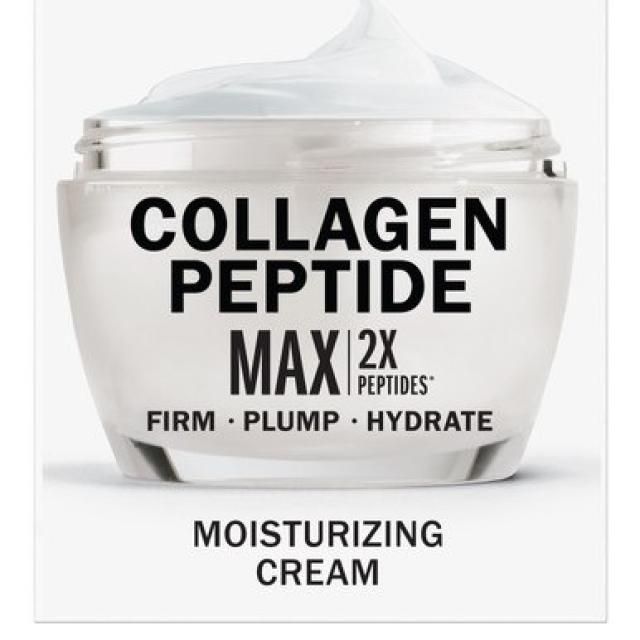lotion-moisture: (83, 118, 542, 487)
